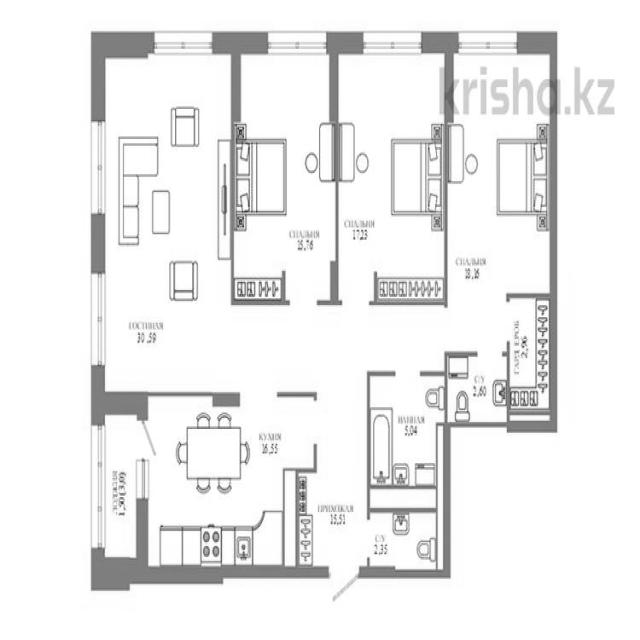balcony: (100, 404, 143, 569)
bathroom: (369, 375, 446, 511), (368, 498, 447, 576), (447, 351, 507, 426)
hallway: (237, 303, 506, 355), (308, 356, 372, 467), (299, 471, 368, 569)
kitchen: (146, 393, 298, 570)
living_room: (103, 37, 235, 396), (336, 41, 449, 304), (448, 43, 554, 294), (234, 41, 332, 302)
other: (508, 294, 556, 428)
